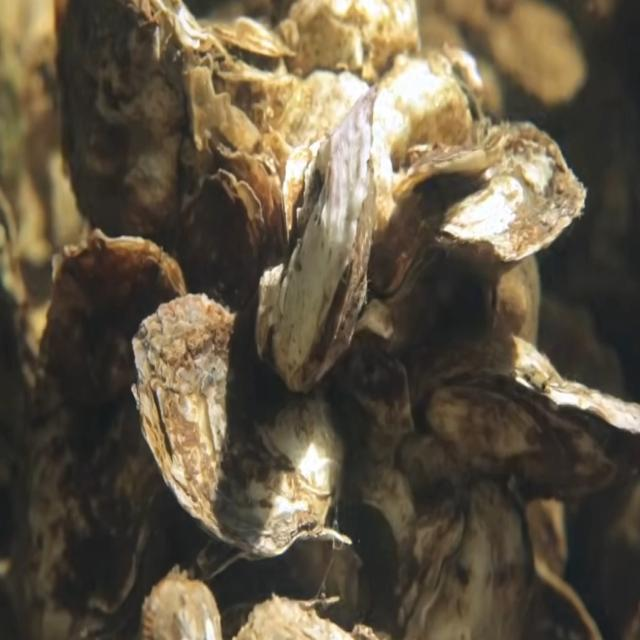Oyster-Closed: (29, 226, 187, 640), (409, 333, 640, 508), (254, 83, 382, 395), (378, 121, 588, 308), (391, 475, 537, 640)
Oyster-Indeterminate: (130, 292, 352, 561), (58, 0, 217, 280), (180, 168, 266, 310)
Oyster-Open: (196, 527, 352, 614)
